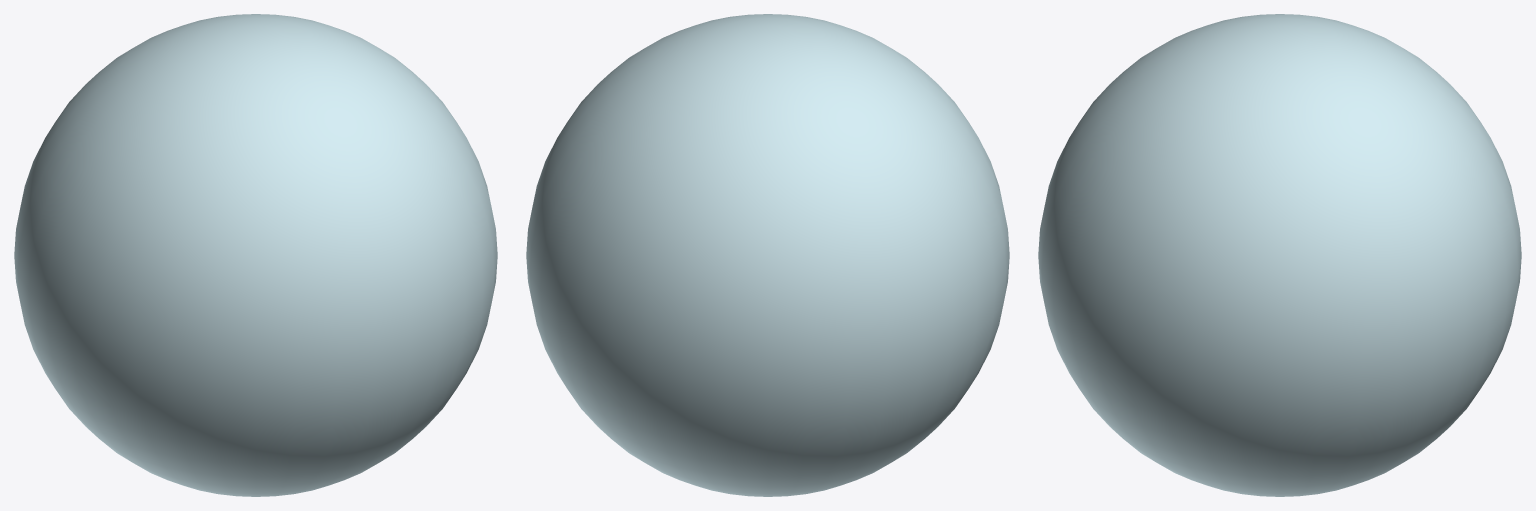
Rendered from glass_sphere.glb.
3 views of the same model, side by side, from view 1: azimuth 30°, elevation 25°; view 2: azimuth 150°, elevation 25°; view 3: azimuth 270°, elevation 25° (orthographic).
Visible parts, largest first — view 1: glass_sphere; view 2: glass_sphere; view 3: glass_sphere.
Boxes of the visible parts, x1=… form: glass_sphere: x1=14, y1=14, x2=497, y2=496; glass_sphere: x1=526, y1=14, x2=1009, y2=496; glass_sphere: x1=1038, y1=14, x2=1521, y2=496.
Bounding box in the file's own units: 3 × 3 × 3.
